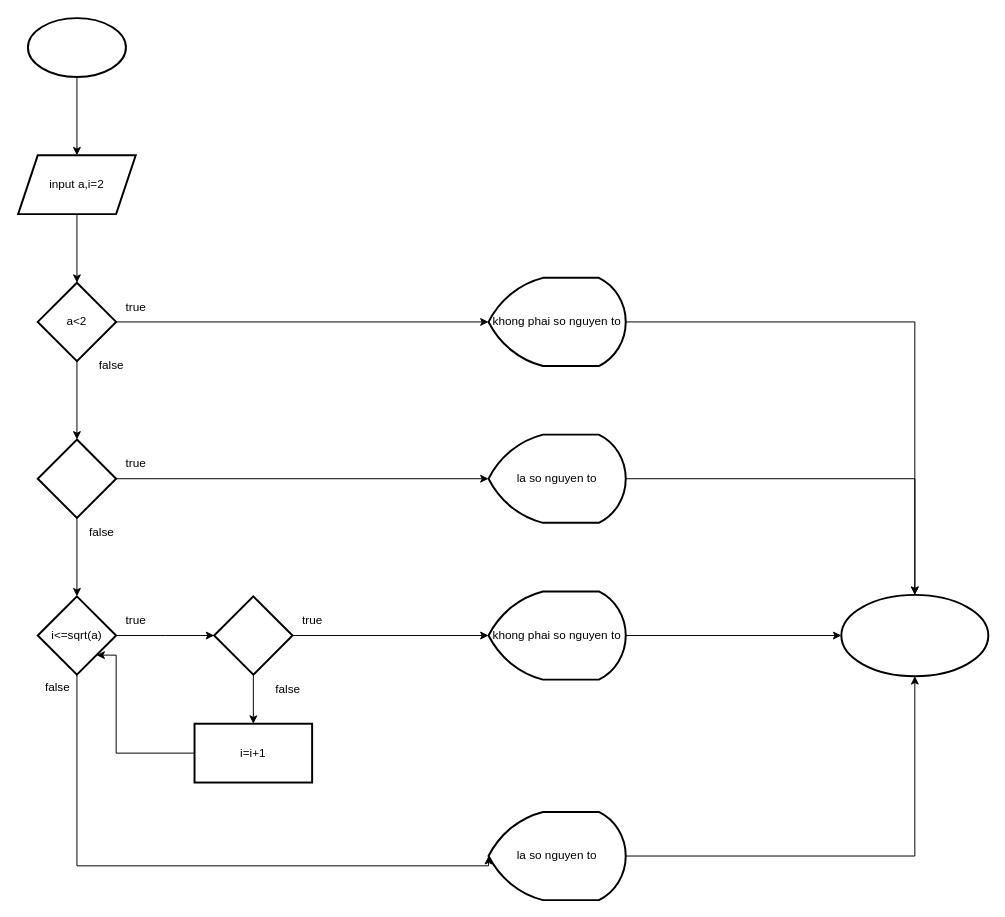
Image size: 1005x917. Some labels were removed from this diagram. The centre of each missing label's shape, as x and y in pixels:
a%i=0: pixel 253 635
a=2: pixel 76 478
end: pixel 914 635
start: pixel 76 47
